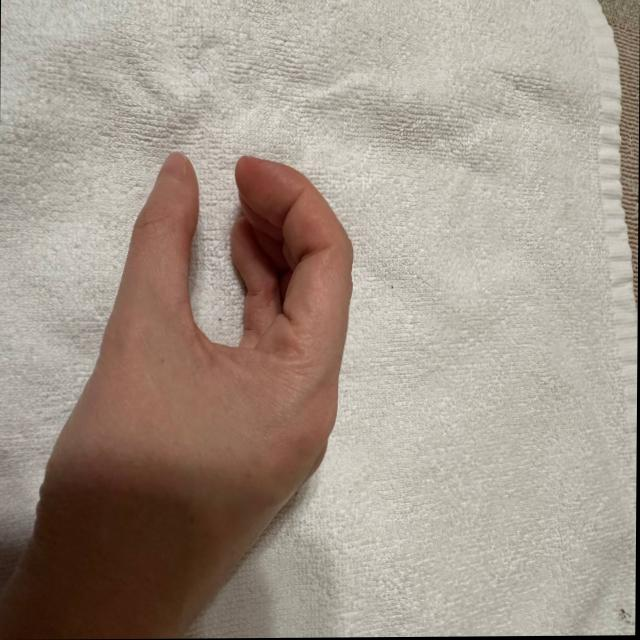s: (36, 71, 403, 584)
